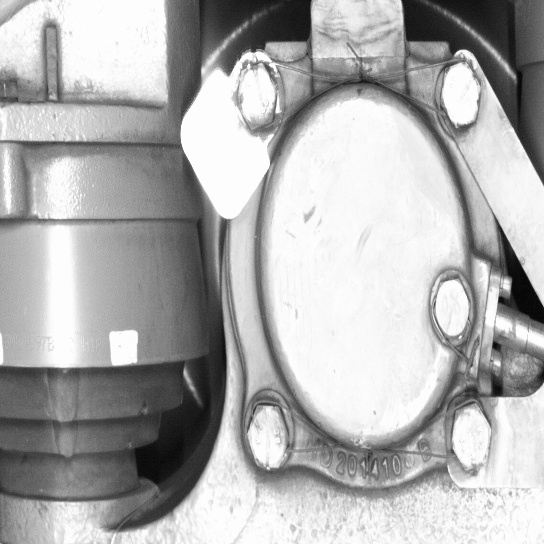IronWire: (227, 43, 486, 143), (240, 392, 499, 480)
Screw: (225, 46, 285, 140), (238, 393, 295, 479), (442, 395, 500, 479), (433, 49, 486, 140), (427, 268, 476, 350)
